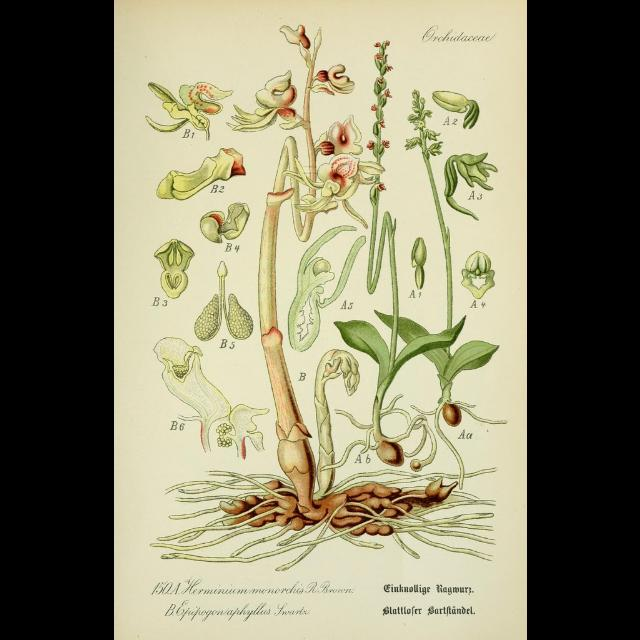Flower: (320, 147, 366, 186), (454, 150, 496, 188)
